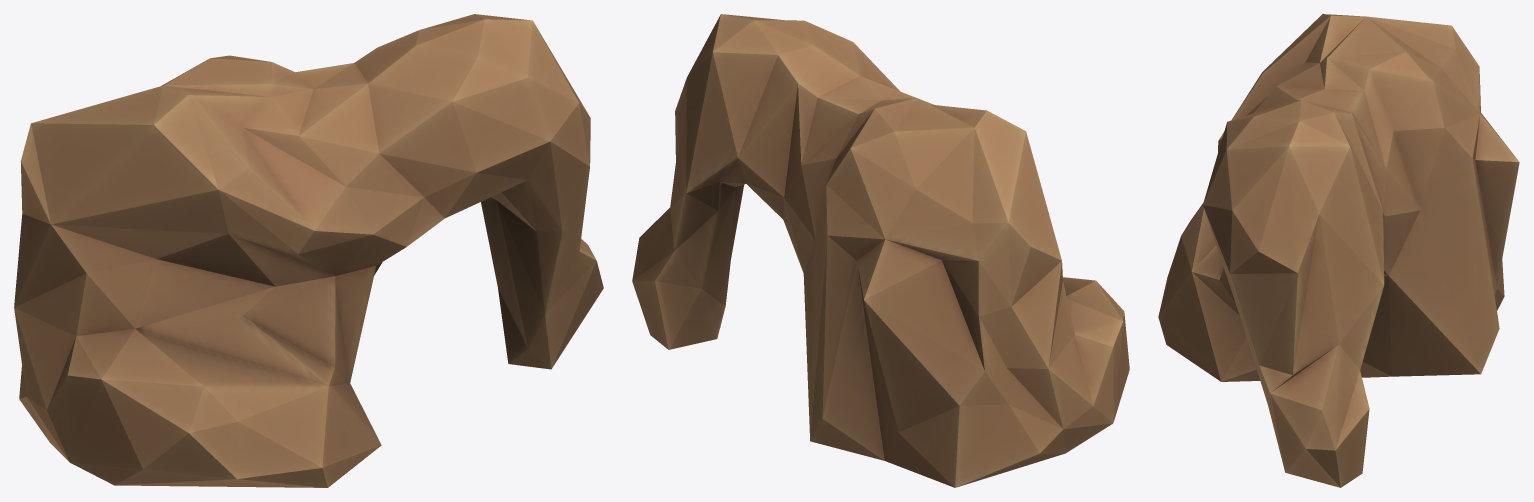
The model's file is Mountain rock_13.fbx.
3 views of the same model, side by side, from view 1: azimuth 30°, elevation 25°; view 2: azimuth 150°, elevation 25°; view 3: azimuth 270°, elevation 25° (orthographic). The views are drawn at different scales.
Parts seen in each view (by area): view 1: Mountain rock_13; view 2: Mountain rock_13; view 3: Mountain rock_13.
Boxes of the visible parts, <box> form: Mountain rock_13: <box>14,14,603,487</box>; Mountain rock_13: <box>632,14,1129,487</box>; Mountain rock_13: <box>1158,14,1519,487</box>.
Bounding box in the file's own units: 283 × 183 × 182.
Materials: 1 (1 with a texture image).
